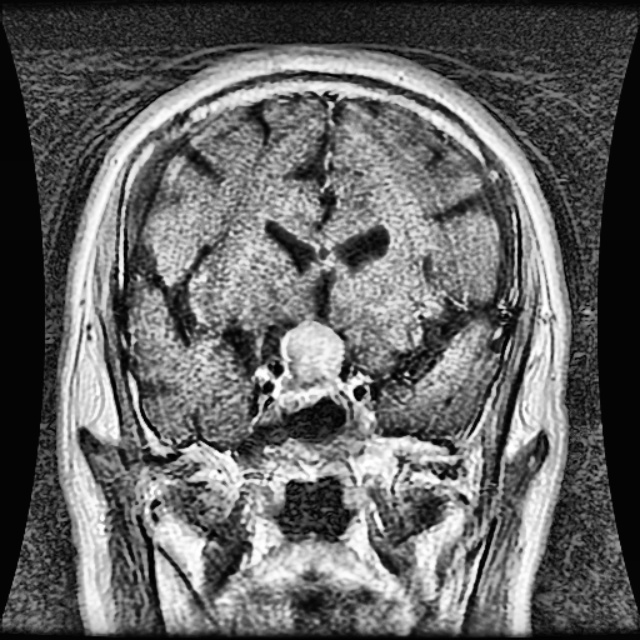Pituitary: (284, 320, 340, 379)
